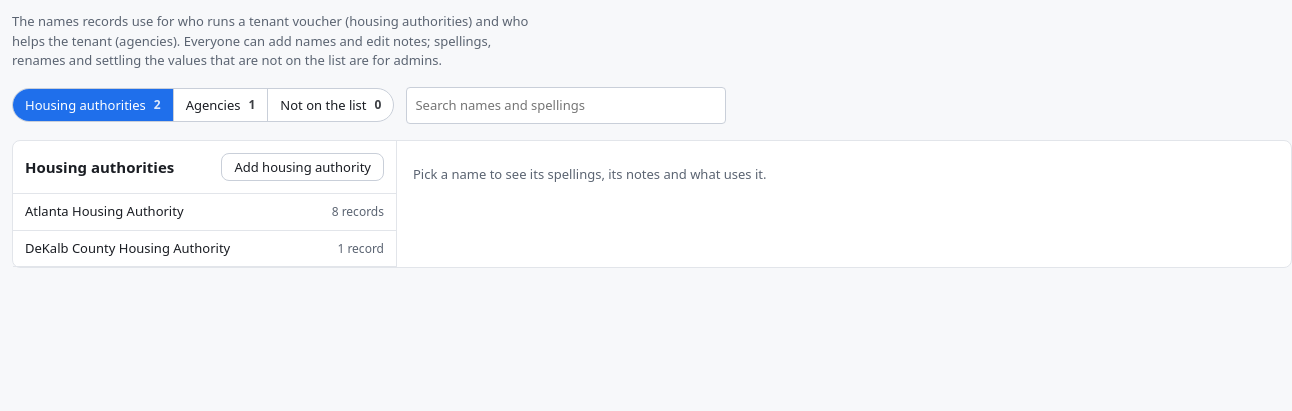
Test: OrgListSection - the detail panel › a name held only as a contact organization is used: its list row and its panel say so (spec D17; R2-F1)
This screenshot has width=1292, height=411.
Click the link "DeKalb County Housing Authority 1 record" at (204, 249), box [13,230,396,267]
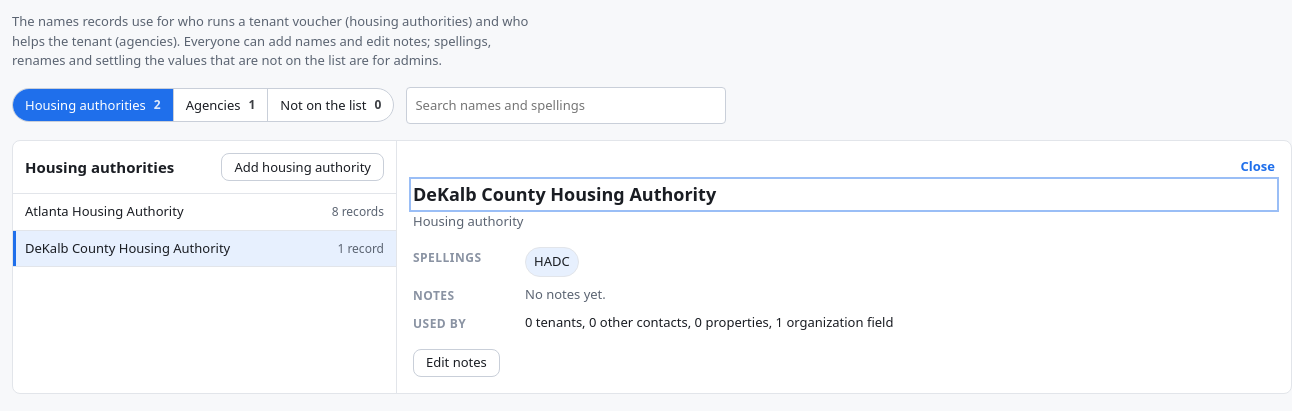
Check: the element "DeKalb County Housing Authority" does not show "Not used", box [397,141,1291,392]
Check: the element "DeKalb County Housing Authority" shows "0 tenants, 0 other contacts, 0 properties, 1 organization field", box [525,312,893,330]
